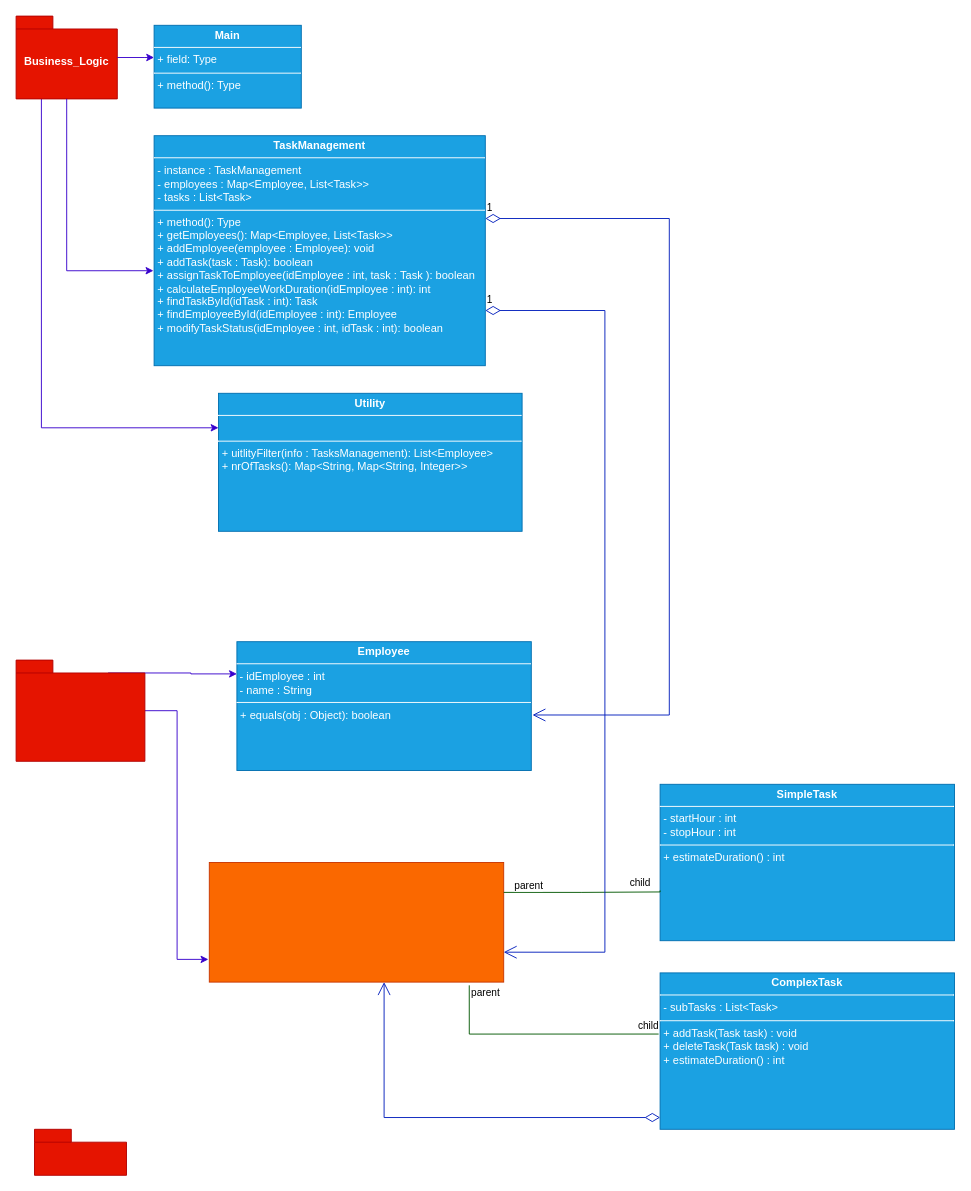
The diagram is 971 pixels wide and 1191 high, and some of its shapes have lost their labels. The centre of each missing label's shape, as x and y in pixels:
<<abstract>> Task - idTask : int - statusTask : String + estimateDuration(): int: [356,922]
Data_Model: [80,710]
Graphical_User: [80,1151]
